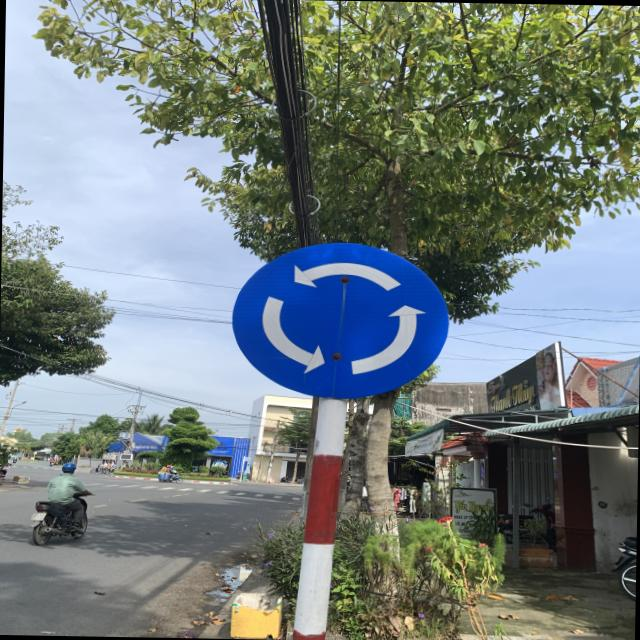Xe_Bus: (230, 240, 450, 401)
